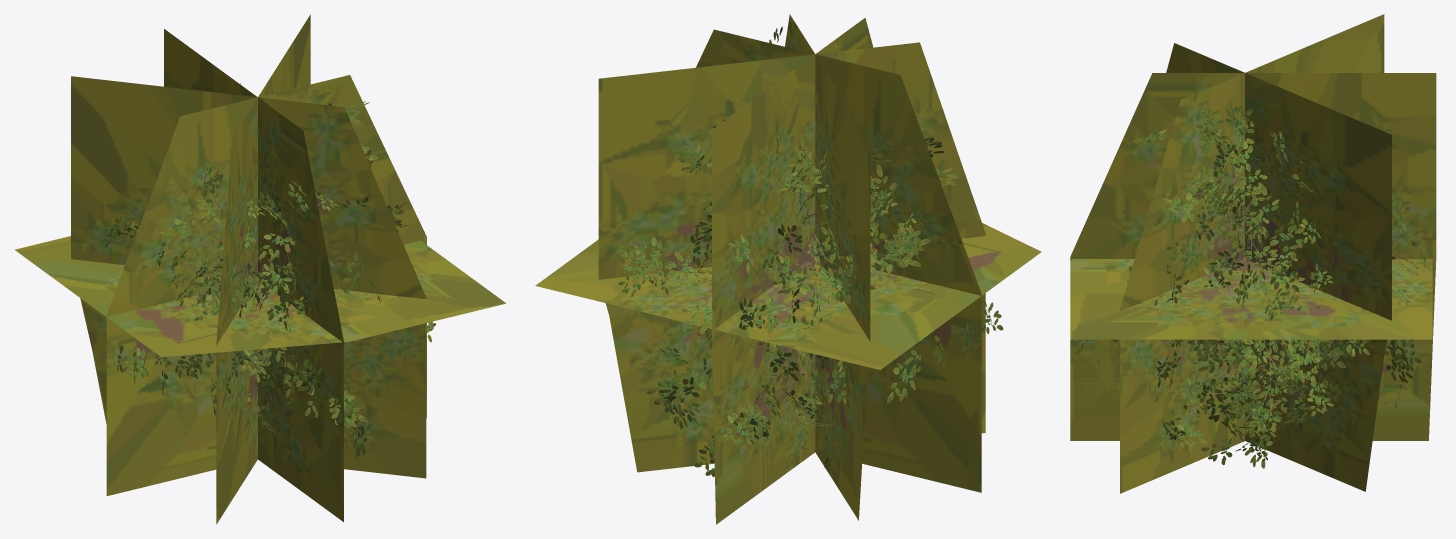
Rendered from Bush_Desktop.fbx.
3 views of the same model, side by side, from view 1: azimuth 30°, elevation 25°; view 2: azimuth 150°, elevation 25°; view 3: azimuth 270°, elevation 25° (orthographic). The views are drawn at different scales.
Visible parts, largest first — view 1: Billboard, LOD0; view 2: Billboard, LOD0; view 3: Billboard, LOD0.
Boxes of the visible parts, x1,y1,x2,y2 form: Billboard: [14, 14, 506, 524]; LOD0: [105, 83, 436, 456]; Billboard: [535, 14, 1041, 524]; LOD0: [618, 26, 1003, 477]; Billboard: [1070, 14, 1436, 493]; LOD0: [1074, 100, 1433, 468].
Size of what is drawn, in the model's own units: 5.5 by 6.13 by 5.42.
